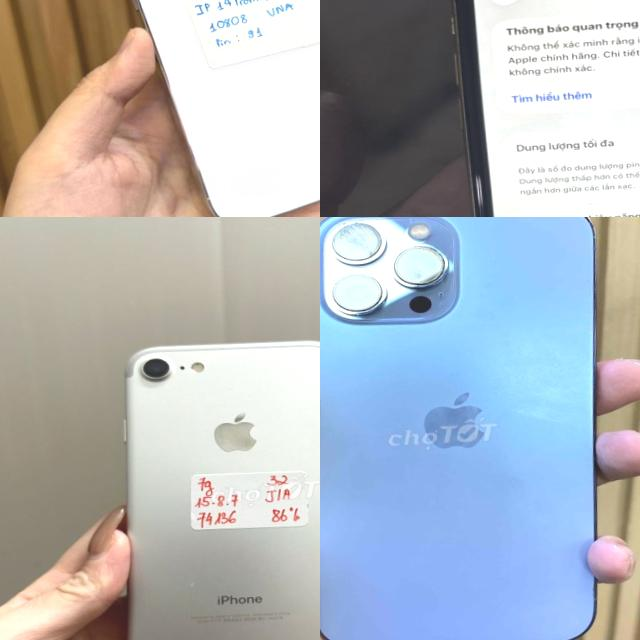gen_11: (441, 0, 640, 217)
gen_12_13: (320, 217, 611, 640)
gen_14: (86, 0, 320, 217)
gen_7_8: (112, 324, 320, 640)
